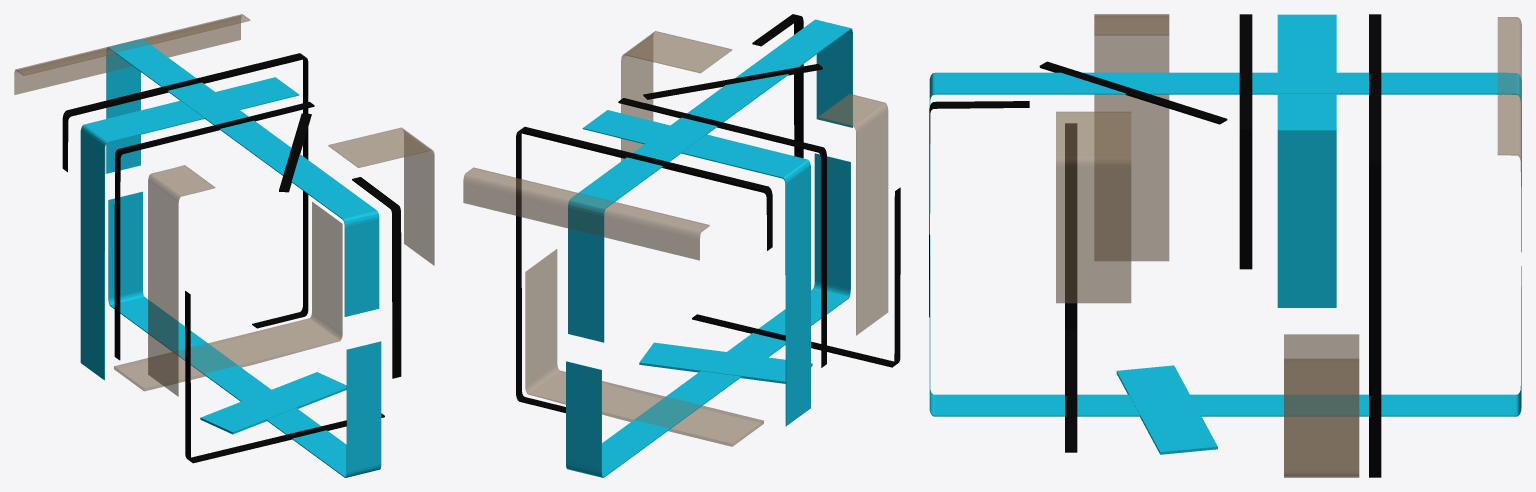
Rendered from tape_open_4.fbx.
3 views of the same model, side by side, from view 1: azimuth 30°, elevation 25°; view 2: azimuth 150°, elevation 25°; view 3: azimuth 270°, elevation 25° (orthographic). The views are drawn at different scales.
Parts seen in each view (by area): view 1: tape_0.013, 평면.054, 평면.052, 평면.046, 평면.045, 평면.047, 평면.048, 평면.055, 평면.051, 평면.050, 평면.049, 평면.053; view 2: tape_0.013, 평면.054, 평면.052, 평면.047, 평면.046, 평면.045, 평면.048, 평면.055, 평면.051, 평면.049, 평면.050, 평면.053; view 3: tape_0.013, 평면.046, 평면.054, 평면.045, 평면.052, 평면.048, 평면.055, 평면.049, 평면.051, 평면.047, 평면.053, 평면.050.
Boxes of the visible parts, x1,y1,x2,y2 form: tape_0.013: (106,39,381,477); 평면.054: (80,77,299,380); 평면.052: (114,202,342,391); 평면.046: (148,165,215,396); 평면.045: (328,127,434,265); 평면.047: (14,14,250,94); 평면.048: (62,53,308,328); 평면.055: (200,372,346,434); 평면.051: (114,102,314,360); 평면.050: (352,177,401,378); 평면.049: (185,291,384,463); 평면.053: (279,113,311,192); tape_0.013: (566,19,852,477); 평면.054: (582,110,810,426); 평면.052: (525,249,763,446); 평면.047: (463,167,709,260); 평면.046: (818,94,888,335); 평면.045: (621,31,731,161); 평면.048: (516,126,772,412); 평면.055: (639,342,812,383); 평면.051: (618,98,826,367); 평면.049: (692,187,900,367); 평면.050: (752,14,803,158); 평면.053: (643,63,822,99); tape_0.013: (929,72,1521,416); 평면.046: (1094,14,1169,261); 평면.054: (1277,14,1336,307); 평면.045: (1056,111,1131,303); 평면.052: (1284,334,1359,477); 평면.048: (1369,14,1381,477); 평면.055: (1116,365,1217,454); 평면.049: (1065,123,1077,452); 평면.051: (1239,14,1252,269); 평면.047: (1497,17,1521,187); 평면.053: (1039,61,1227,124); 평면.050: (929,101,1029,317).
Size of the model in its own units: 146 by 152 by 251.
